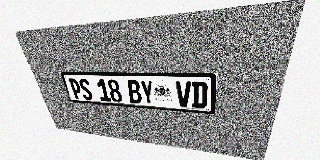1: (96, 79, 111, 101)
8: (107, 79, 122, 102)
B: (126, 80, 142, 104)
D: (192, 81, 208, 109)
P: (68, 78, 84, 99)
S: (78, 79, 93, 100)
V: (176, 81, 191, 108)
Y: (139, 80, 155, 105)
